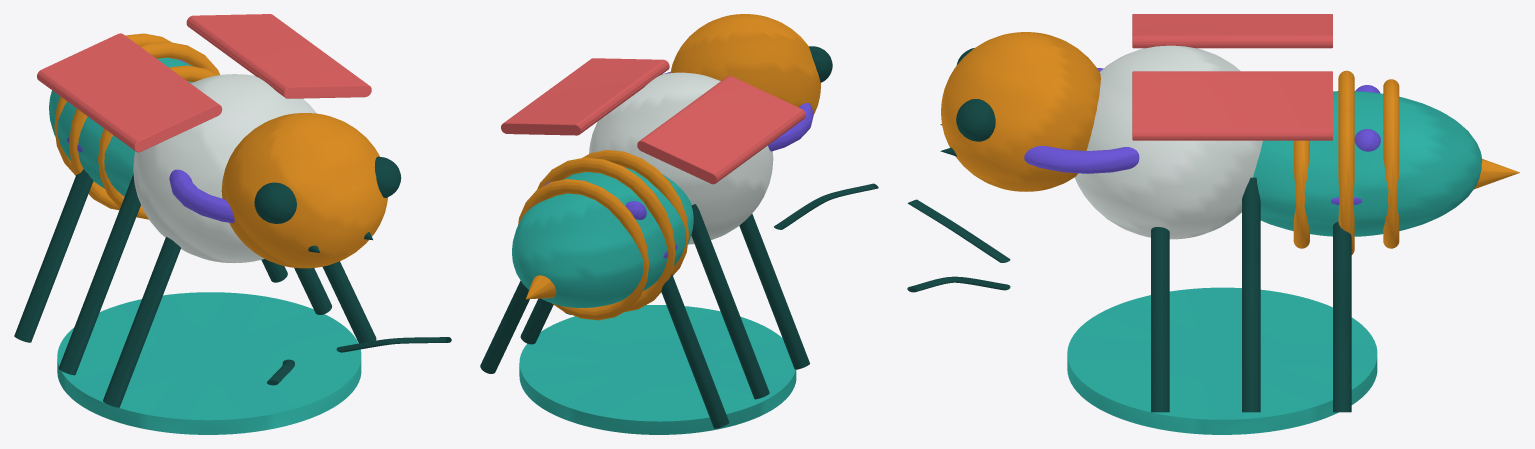
File: 0023_昆虫图鉴_龙虱.glb
3 views of the same model, side by side, from view 1: azimuth 30°, elevation 25°; view 2: azimuth 150°, elevation 25°; view 3: azimuth 270°, elevation 25° (orthographic). The views are drawn at different scales.
Parts seen in each view (by area): view 1: card_0023; view 2: card_0023; view 3: card_0023.
Part boxes in pixels (x1,y1,x2,y2): card_0023: [14, 14, 451, 434]; card_0023: [480, 14, 878, 434]; card_0023: [907, 14, 1519, 434].
Bounding box in the file's own units: 0.8866 × 1 × 1.69.
